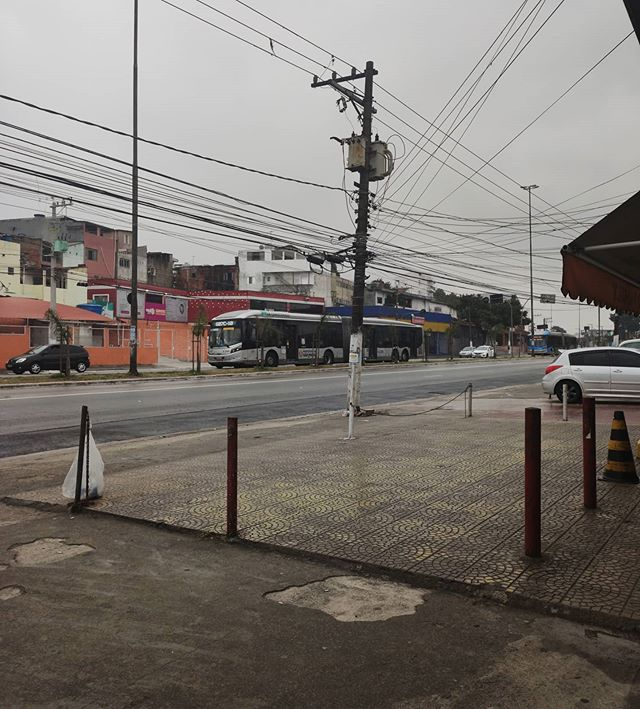building: (1, 224, 146, 317), (228, 236, 340, 308), (144, 235, 236, 319)
bus: (206, 317, 429, 371)
car: (538, 339, 640, 414), (10, 343, 99, 373), (464, 342, 496, 362)
power pole: (318, 29, 403, 438)
sidewalk: (1, 397, 640, 709)
sky: (17, 1, 640, 211)
street: (10, 348, 537, 439)
